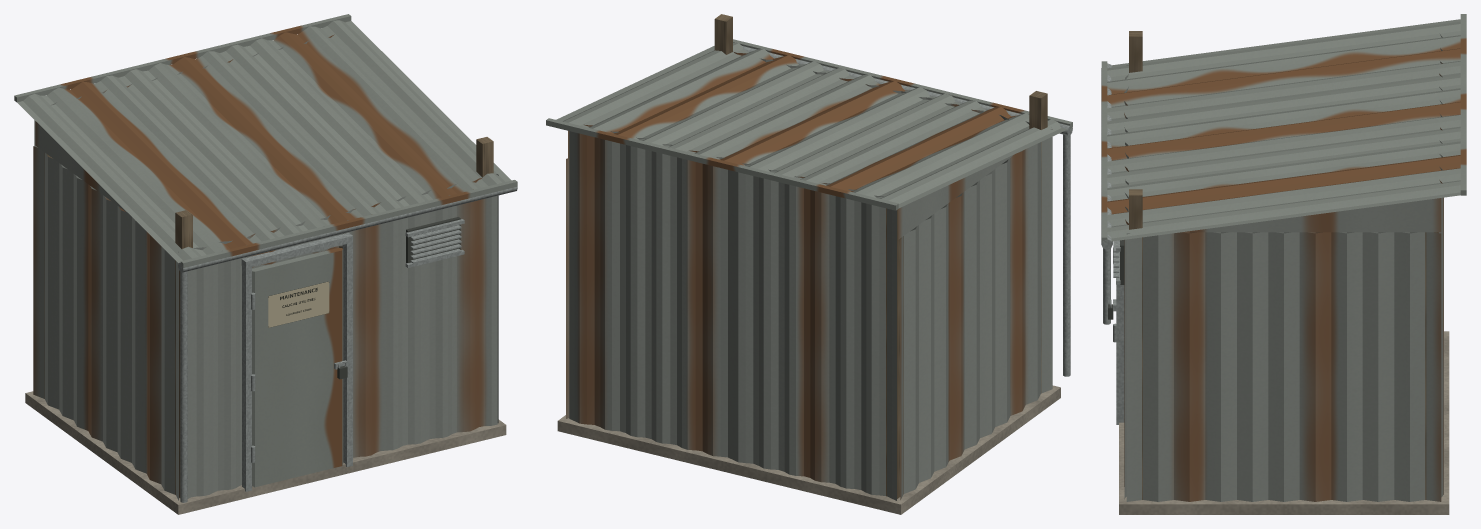
Rendered from SM_SubstationSite_Shed_LOD2.fbx.
The picture shows the model from 3 angles, left to right: view 1: azimuth 30°, elevation 25°; view 2: azimuth 150°, elevation 25°; view 3: azimuth 270°, elevation 25°; orthographic projection. The views are drawn at different scales.
Parts seen in each view (by area): view 1: SM_SubstationSite_Shed_LOD2; view 2: SM_SubstationSite_Shed_LOD2; view 3: SM_SubstationSite_Shed_LOD2.
Boxes of the visible parts, x1=… form: SM_SubstationSite_Shed_LOD2: x1=14, y1=14, x2=517, y2=514; SM_SubstationSite_Shed_LOD2: x1=546, y1=14, x2=1072, y2=514; SM_SubstationSite_Shed_LOD2: x1=1101, y1=14, x2=1466, y2=514.
Bounding box in the file's own units: 3.18 × 2.79 × 2.75.
